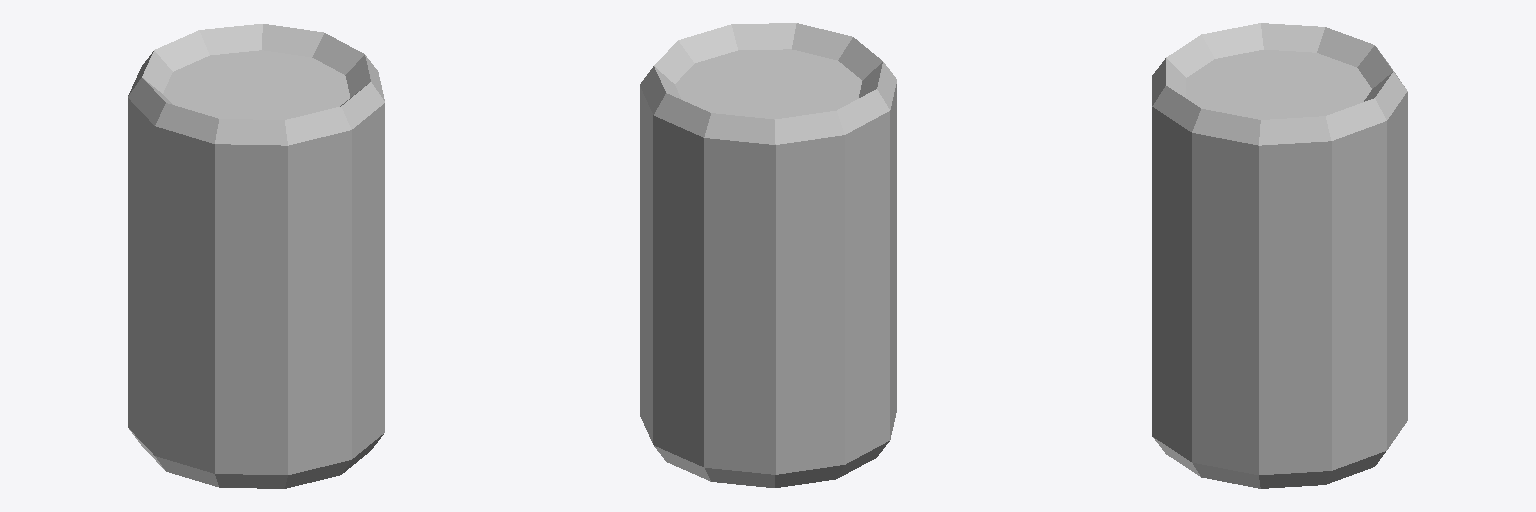
The model's file is soda.obj.
The picture shows the model from 3 angles: view 1: azimuth 30°, elevation 25°; view 2: azimuth 150°, elevation 25°; view 3: azimuth 270°, elevation 25°; orthographic projection.
Parts seen in each view (by area): view 1: Cylinder_Mesh; view 2: Cylinder_Mesh; view 3: Cylinder_Mesh.
Part boxes in pixels (bbox=[...]): Cylinder_Mesh: bbox=[128, 24, 384, 488]; Cylinder_Mesh: bbox=[640, 23, 896, 487]; Cylinder_Mesh: bbox=[1152, 23, 1407, 488].
Size of the model in its own units: 0.0955 by 0.1506 by 0.0946.